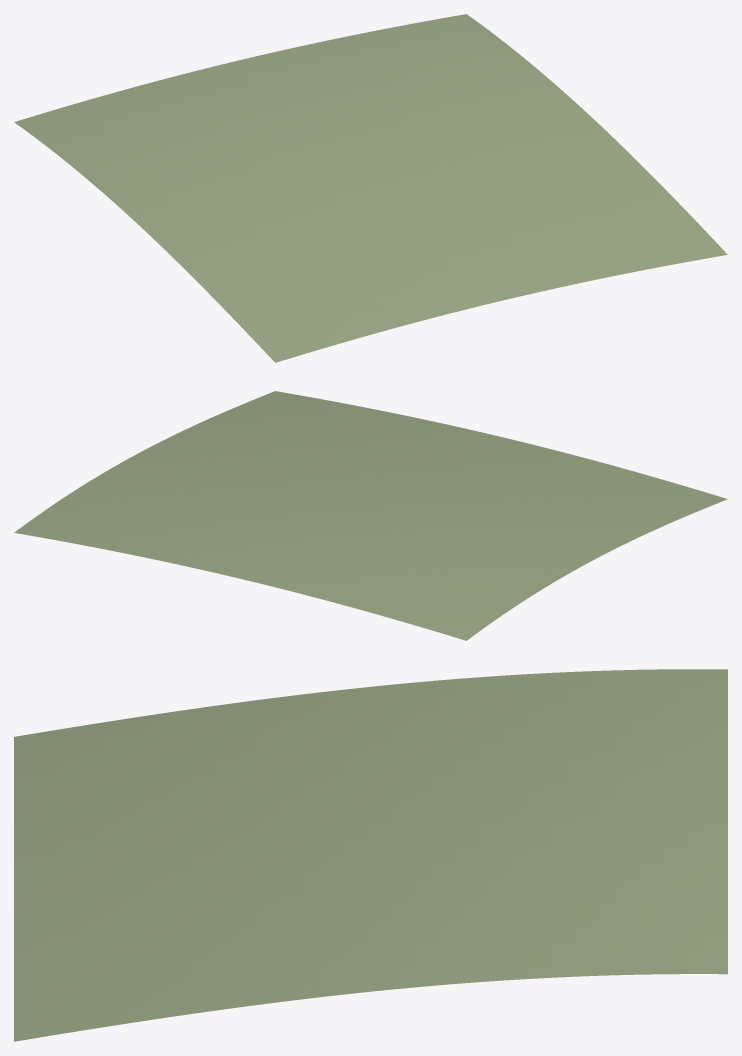
File: valley-15-15.glb
3 views of the same model, one above another, from view 1: azimuth 30°, elevation 25°; view 2: azimuth 150°, elevation 25°; view 3: azimuth 270°, elevation 25° (orthographic). The views are drawn at different scales.
Parts seen in each view (by area): view 1: valley-15-15; view 2: valley-15-15; view 3: valley-15-15.
Part boxes in pixels (x1,y1,x2,y2): valley-15-15: [14, 14, 727, 362]; valley-15-15: [14, 391, 727, 640]; valley-15-15: [14, 669, 727, 1041].
Bounding box in the file's own units: 256 × 31.8 × 256.
